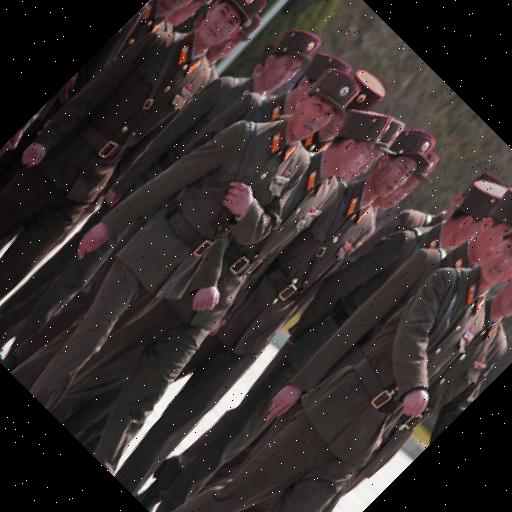north army: (60, 7, 512, 512)
